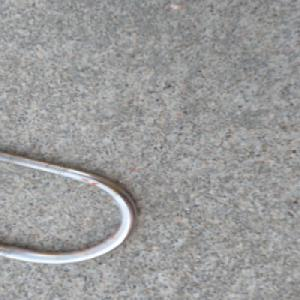ClampPart: (0, 148, 143, 265)
